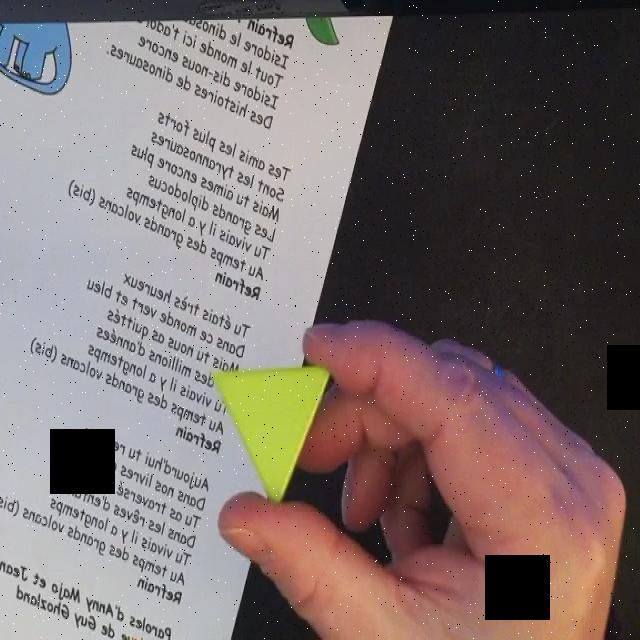triangle: (214, 361, 334, 507)
